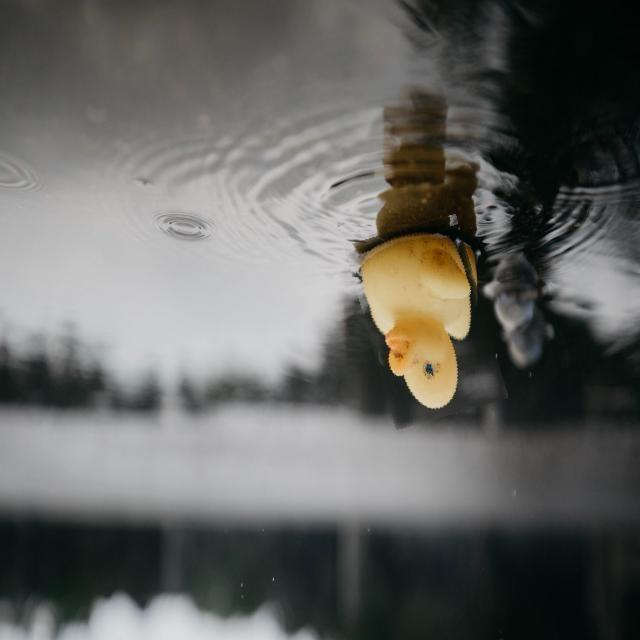rubber-duck: (360, 232, 502, 415)
